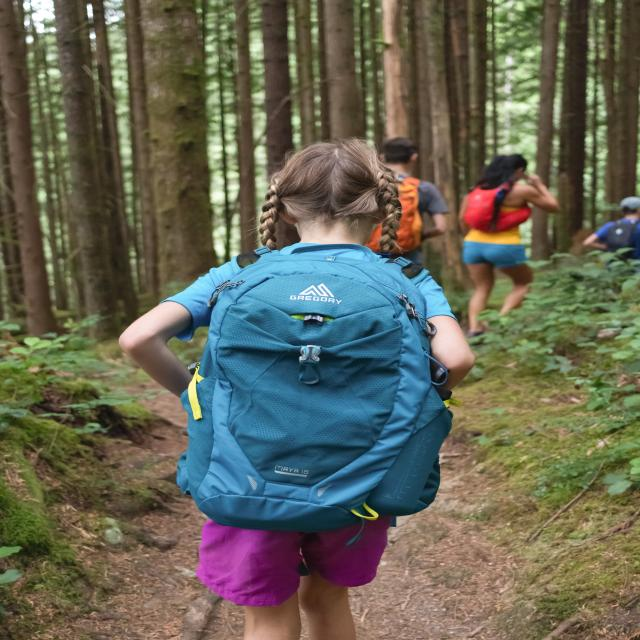backpack: (186, 248, 447, 529)
